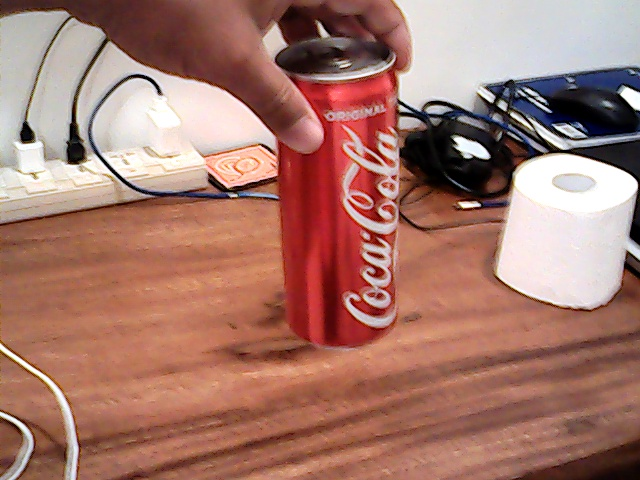Cola: (276, 45, 403, 345)
